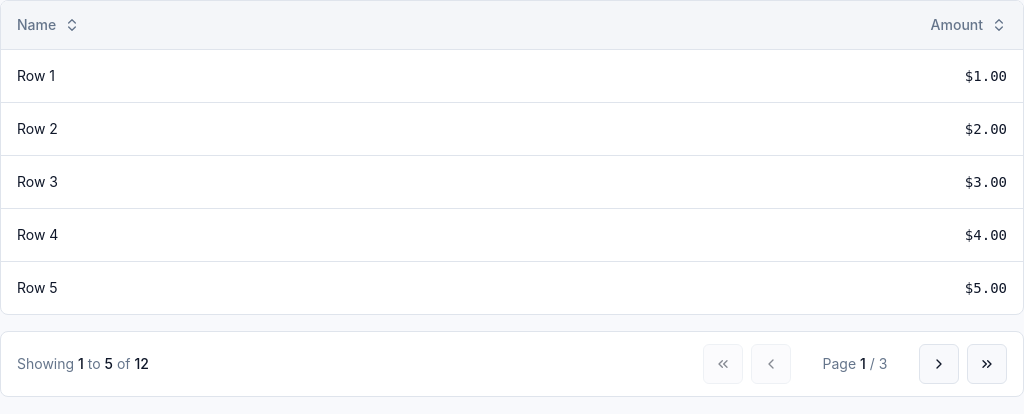
Test: DrillDownTable › paginates rows
expect the text "Row 1" is shown: met, box [1,49,479,102]
expect the text "Row 6" is not shown: met
Click the button named "next page" at (939, 364), box [919,344,959,384]
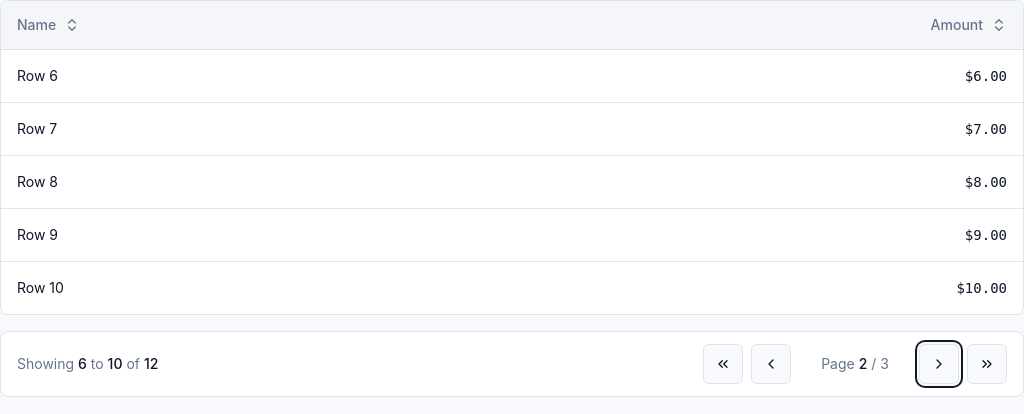
expect the text "Row 6" is shown: met, box [1,49,479,102]
